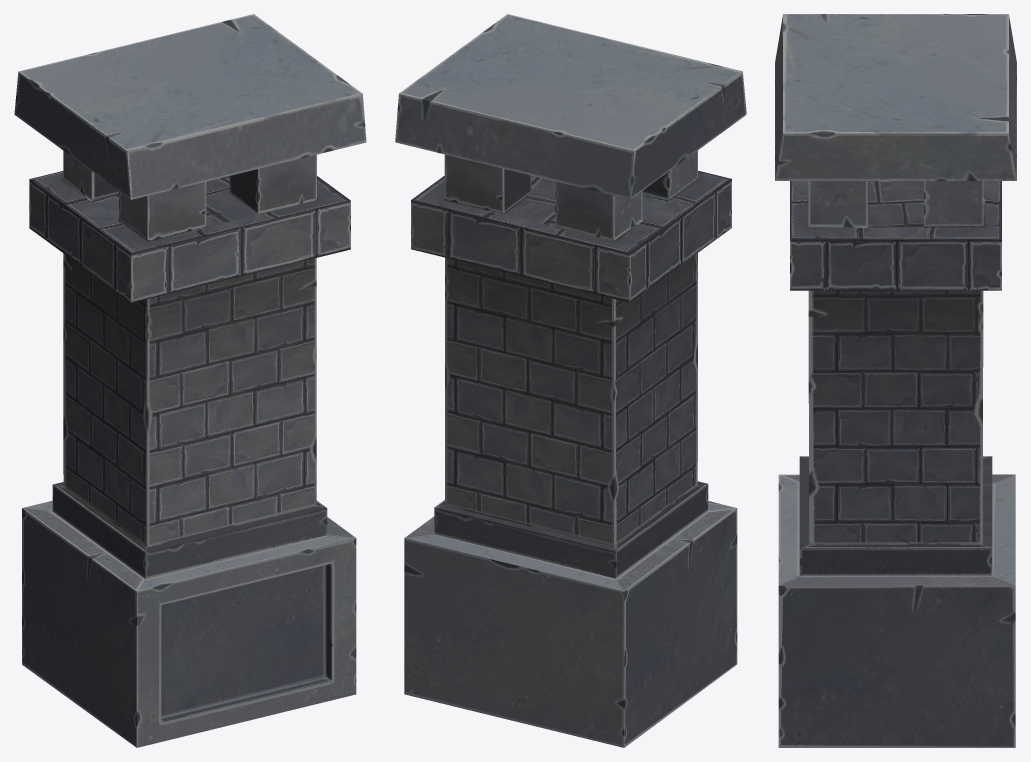
File: Column.FBX
3 renders of one model, left to right at view 1: azimuth 30°, elevation 25°; view 2: azimuth 150°, elevation 25°; view 3: azimuth 270°, elevation 25°, orthographic. The views are drawn at different scales.
Visible parts, largest first — view 1: Object071; view 2: Object071; view 3: Object071.
Boxes of the visible parts, x1=… form: Object071: x1=14, y1=14, x2=366, y2=747; Object071: x1=395, y1=14, x2=746, y2=747; Object071: x1=775, y1=14, x2=1016, y2=747.
Size of the model in its own units: 157 by 380 by 135.
1 material, 1 textured.
